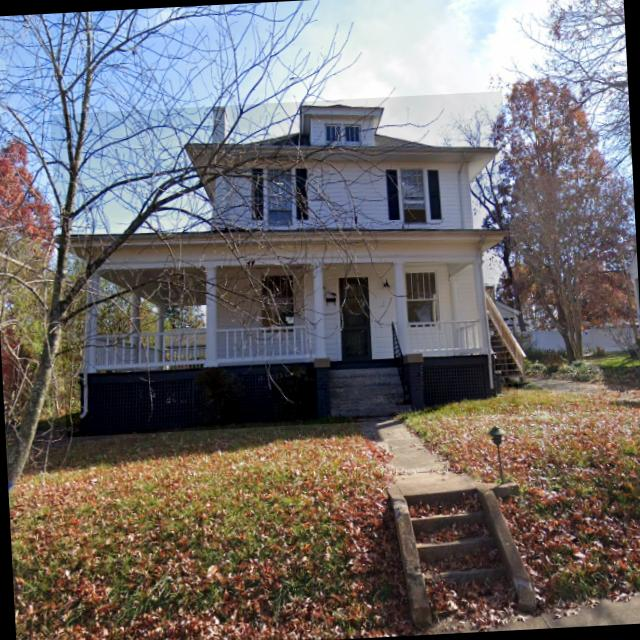House: (50, 91, 519, 438)
